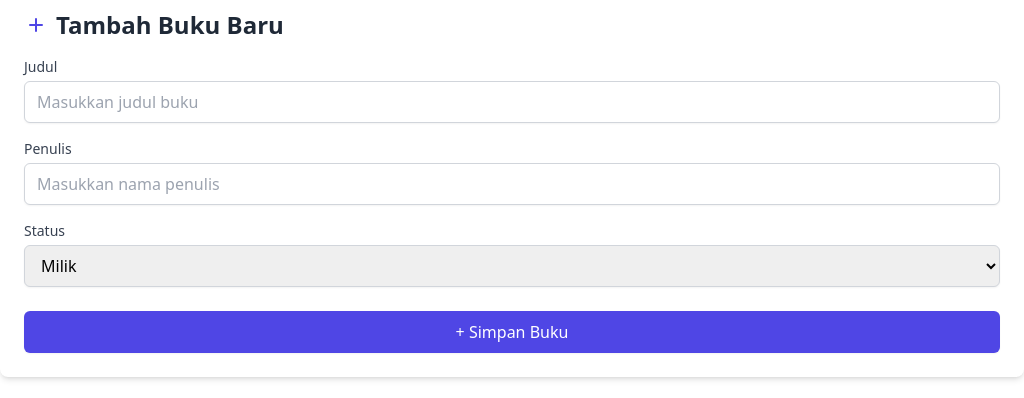
Scenario: BookForm Component › Adding New Book › shows success toast after adding book
Type "Test Book" into the field labelled "Judul". click: (512, 102)
box: [24,81,1000,123]
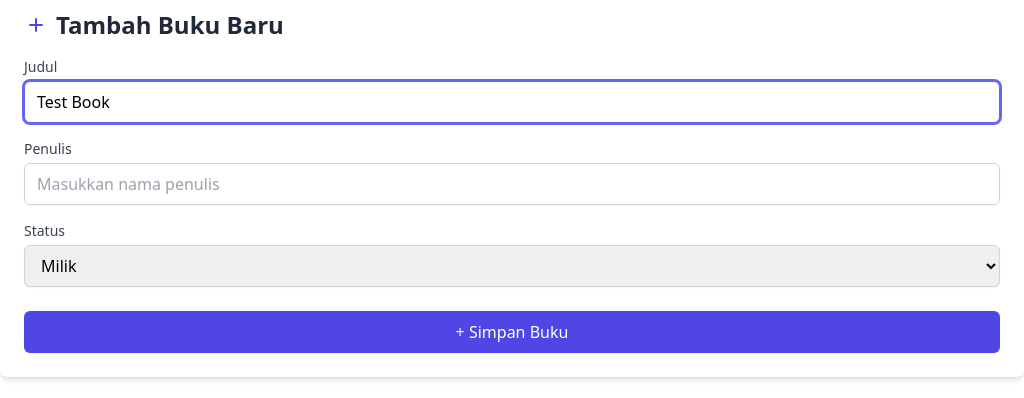
Type "Test Author" into the field labelled "Penulis". click: (512, 184)
box: [24,163,1000,205]
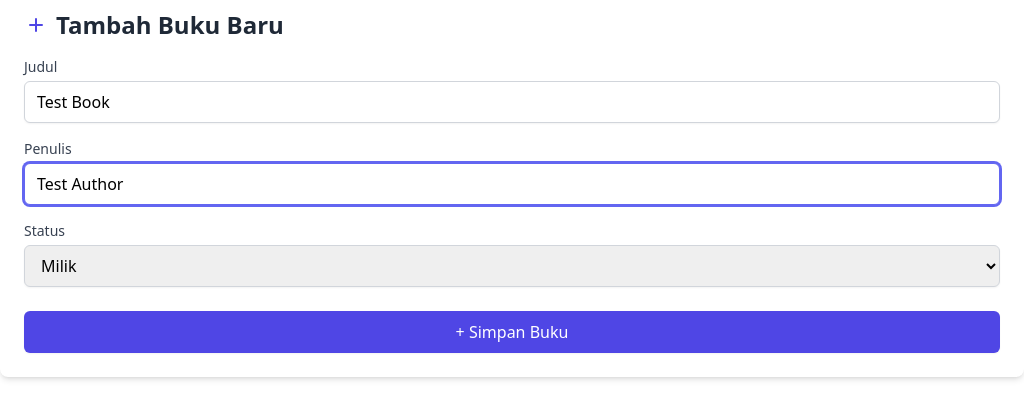
Click the button "+ Simpan Buku". click: (512, 332)
box: [24,311,1000,353]
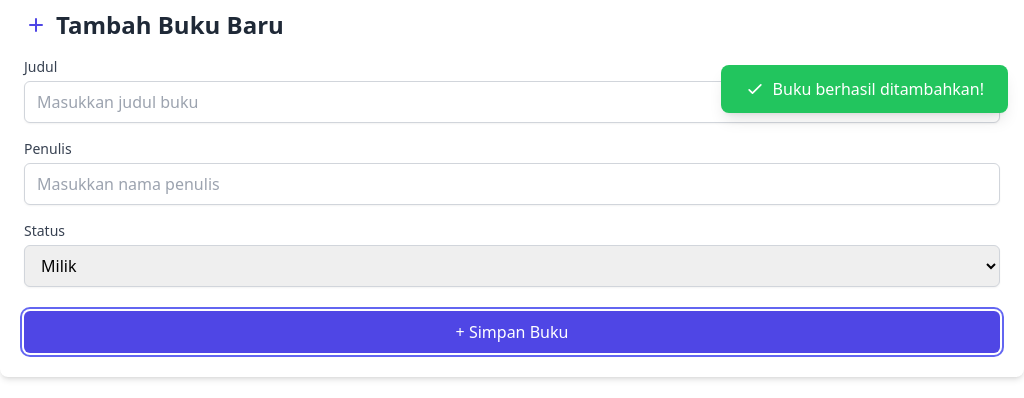
expect the text "Buku berhasil ditambahkan!" is shown: met, box [721,65,1008,113]
